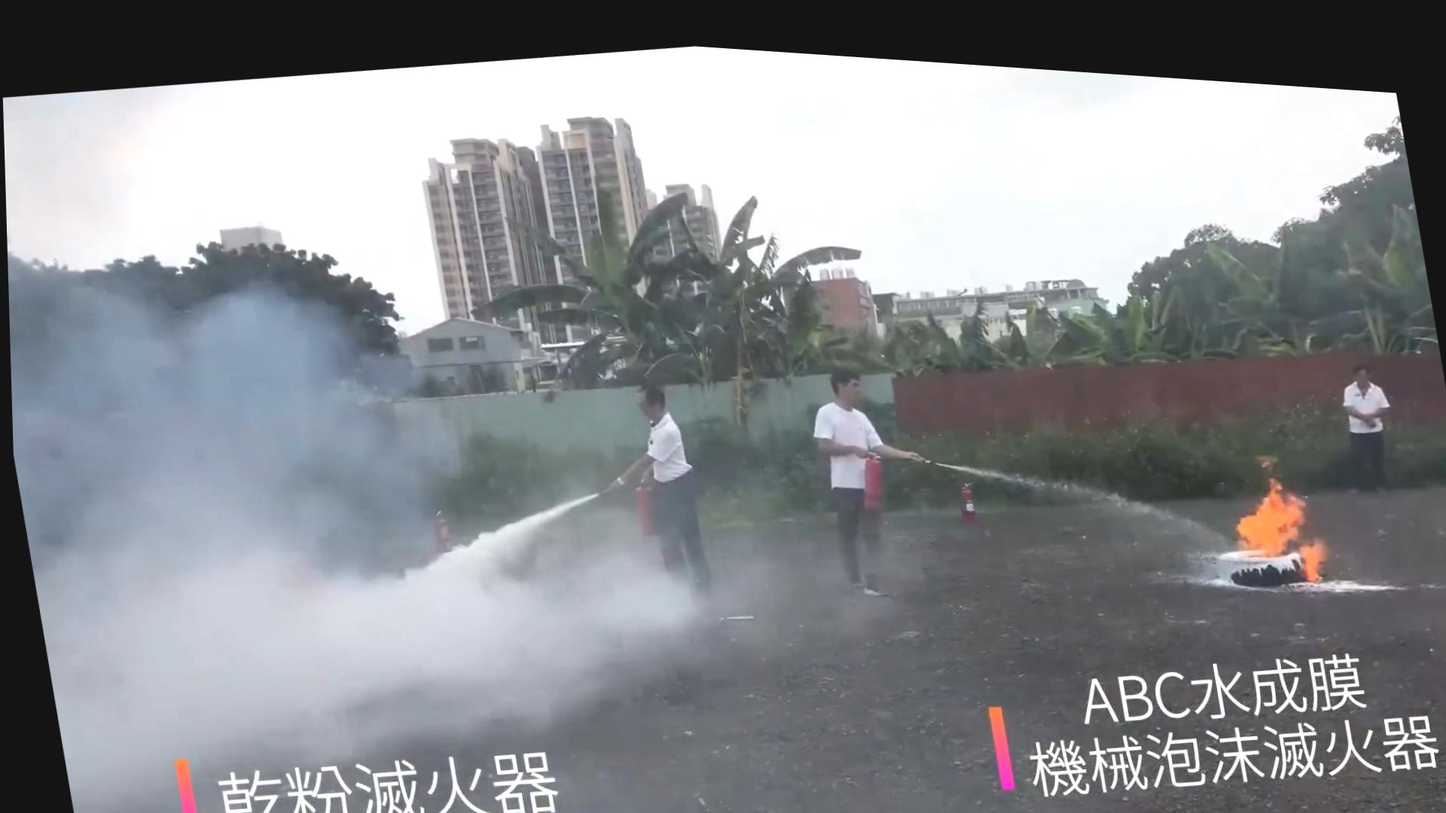FireExtinguisher: (848, 434, 893, 507), (623, 459, 659, 533), (413, 499, 456, 554), (949, 459, 979, 514)
not: (1206, 432, 1338, 589), (800, 248, 882, 338), (971, 687, 1025, 786), (163, 745, 217, 813)
